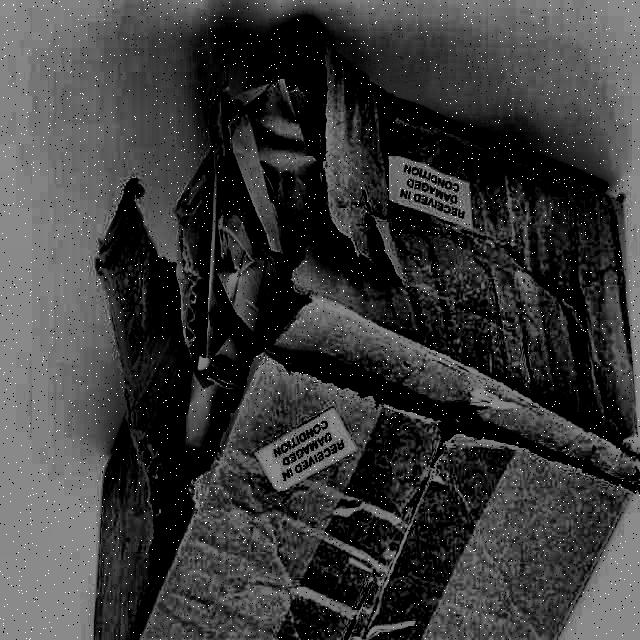box: (84, 23, 640, 640)
hole: (165, 58, 413, 382)
